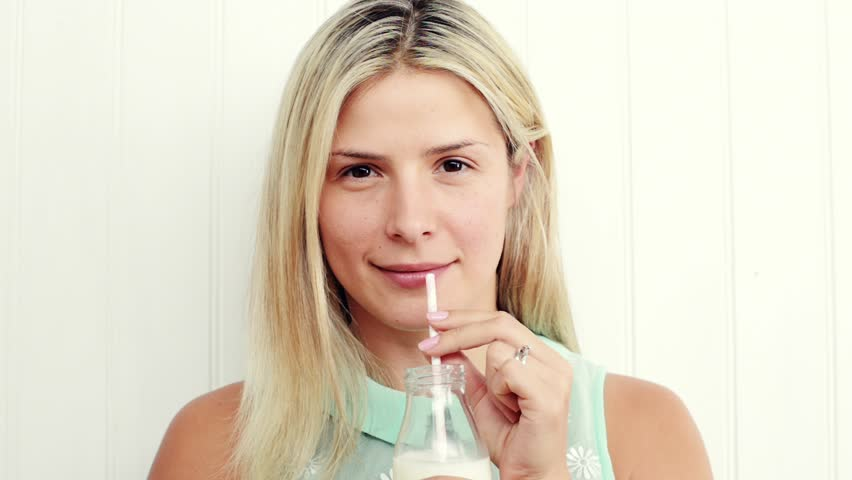glass of milk: (395, 362, 490, 480)
